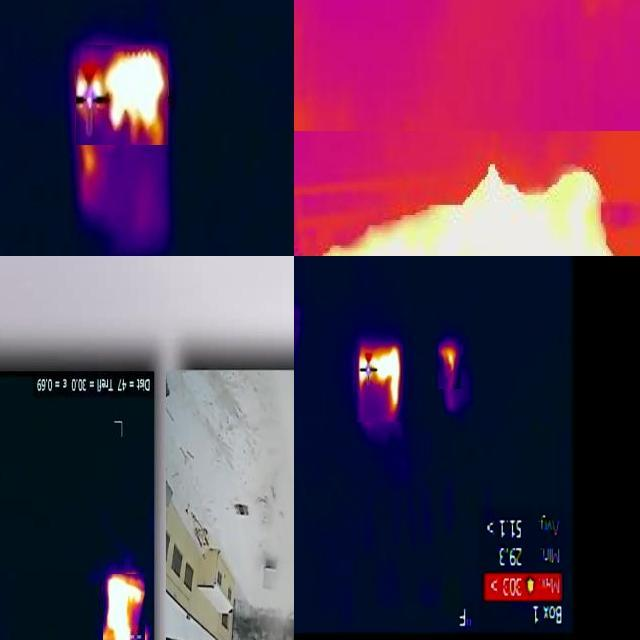fire: (323, 163, 618, 256), (76, 45, 168, 145), (355, 344, 403, 422), (103, 574, 145, 640), (438, 342, 461, 389)
